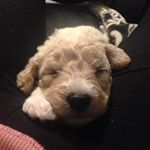puppy: (13, 19, 134, 130)
